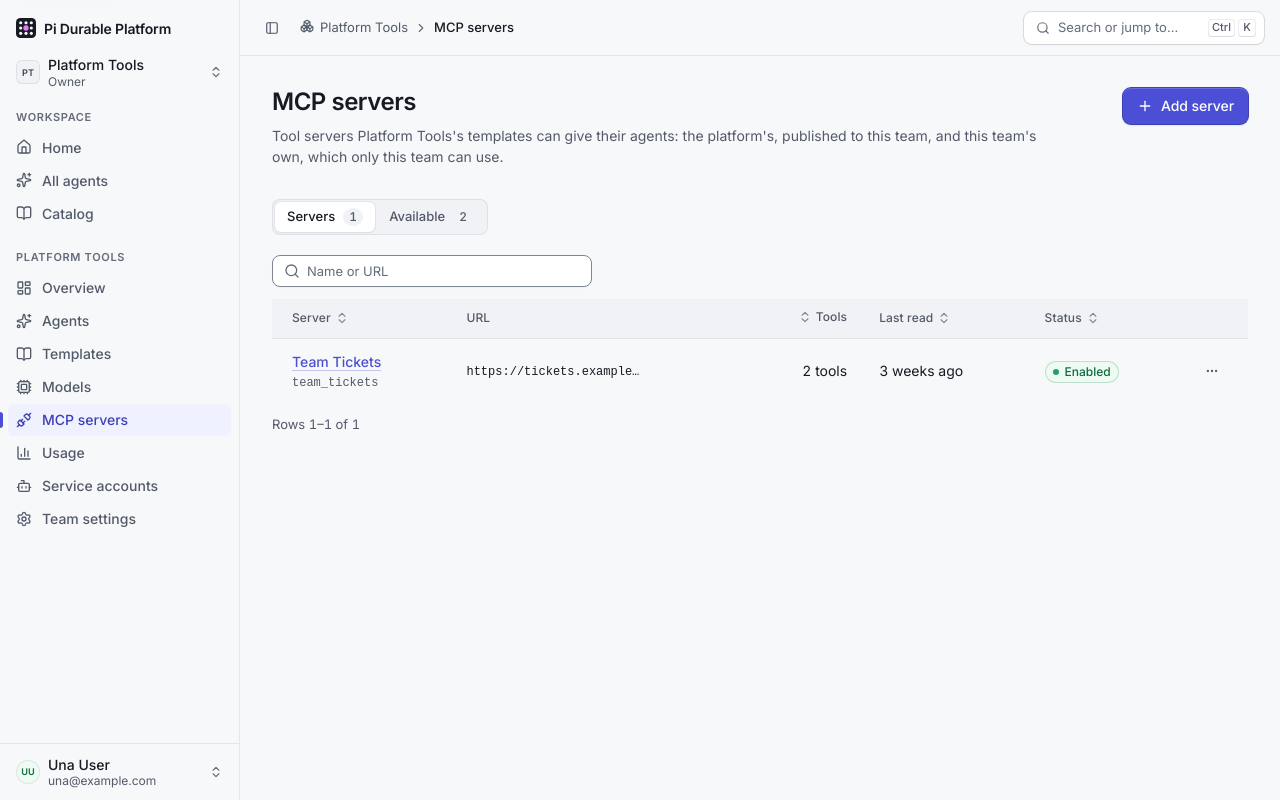
Team › MCP servers › shows the team's servers (no Access column) and, on Available, every server it may use with its source
Expected: the heading "MCP servers" is shown, [272,88,416,117]
Expected: the column heading "Last read" is shown, [863,299,1029,339]
Click the tab "Available 2": (431, 217) [377,202,485,232]
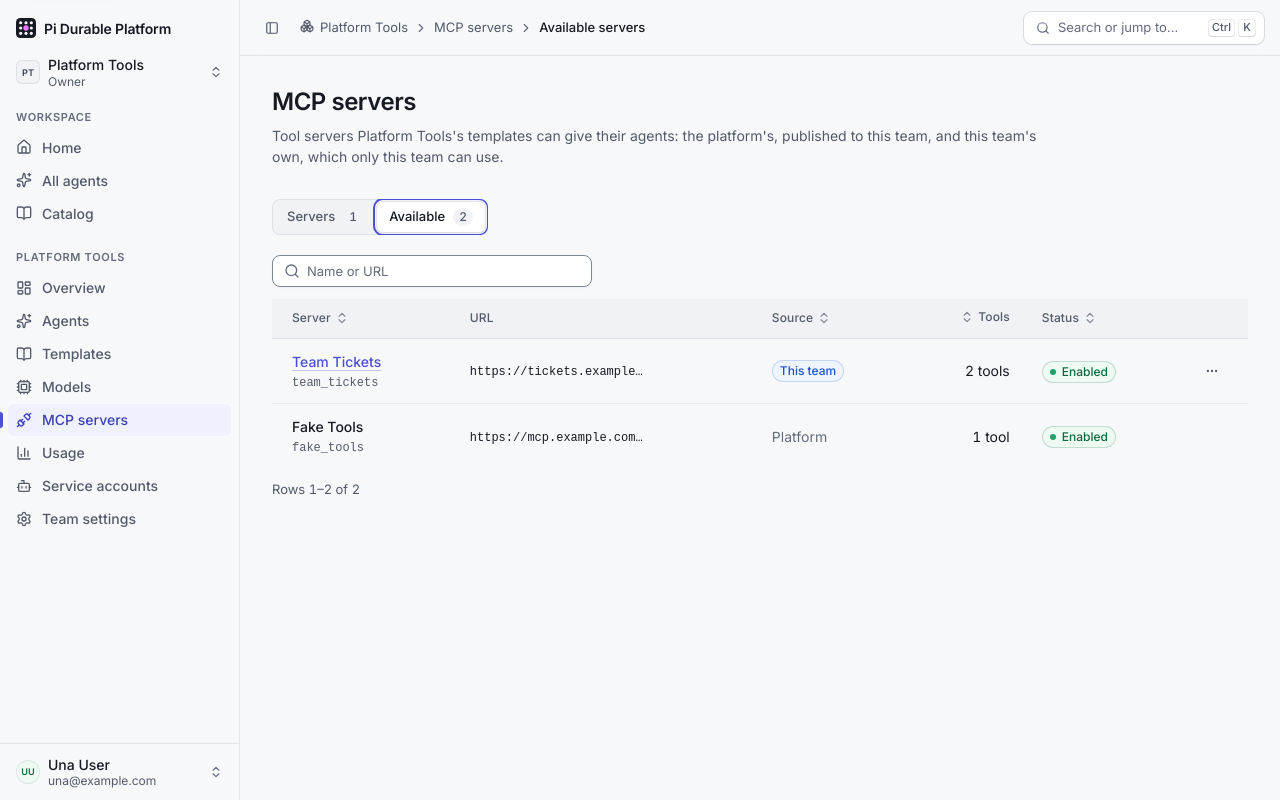
Expected: the text "This team" is shown, [772,360,844,382]
Expected: the text "Platform" is shown, [772,428,827,445]
Expected: the button "Add server" is gone
